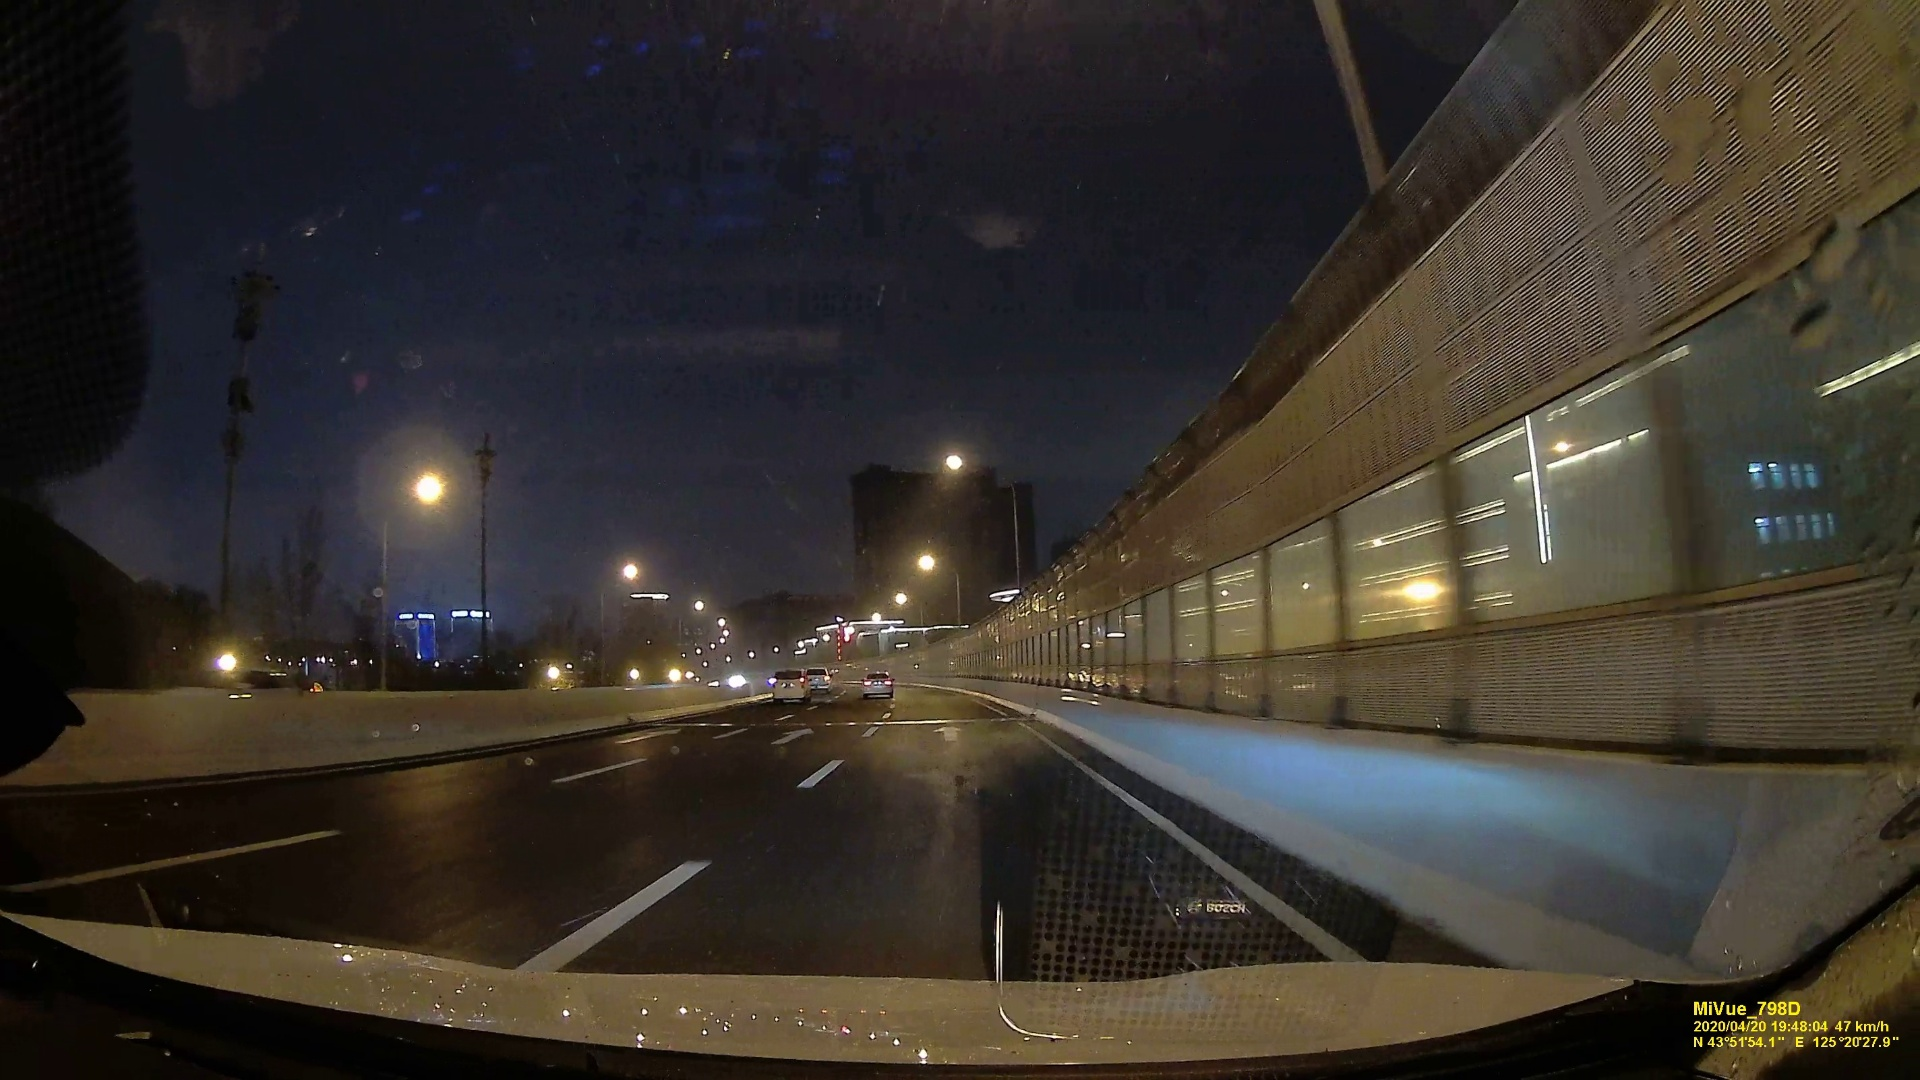minibus: (769, 669, 808, 705)
vehicle: (862, 673, 894, 696), (806, 667, 831, 692)
